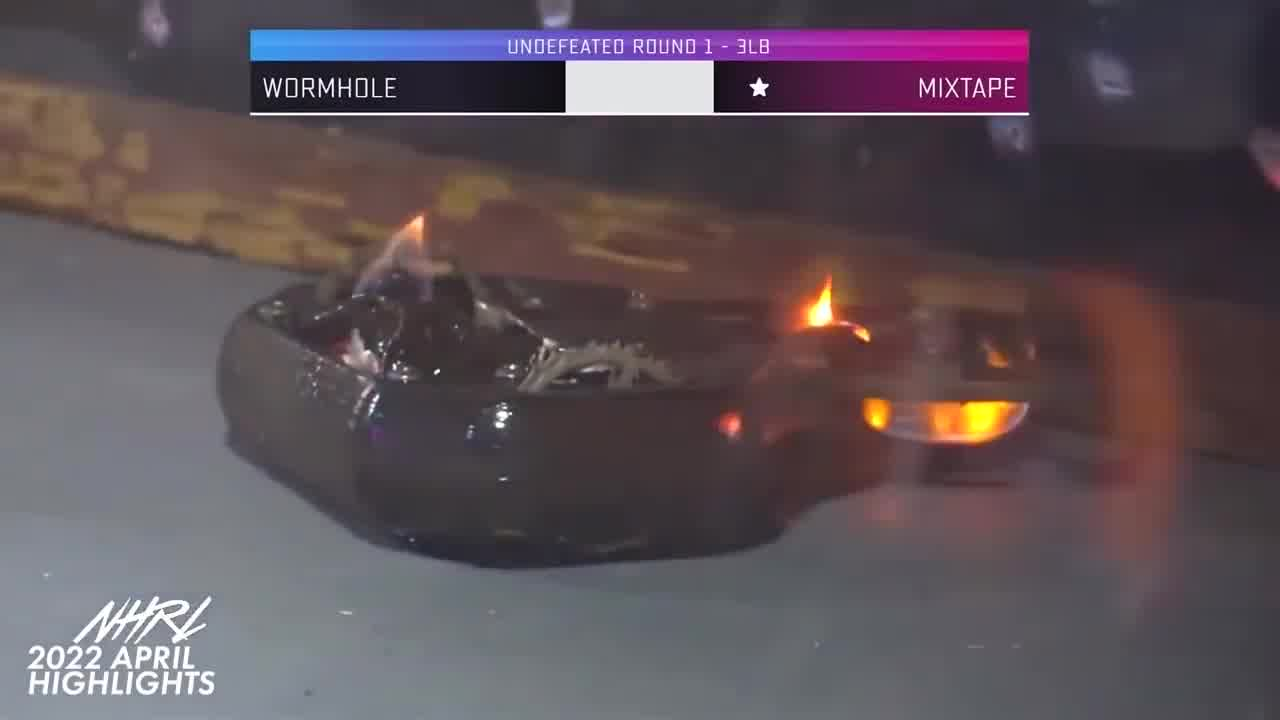combatbot: (220, 271, 1022, 554)
